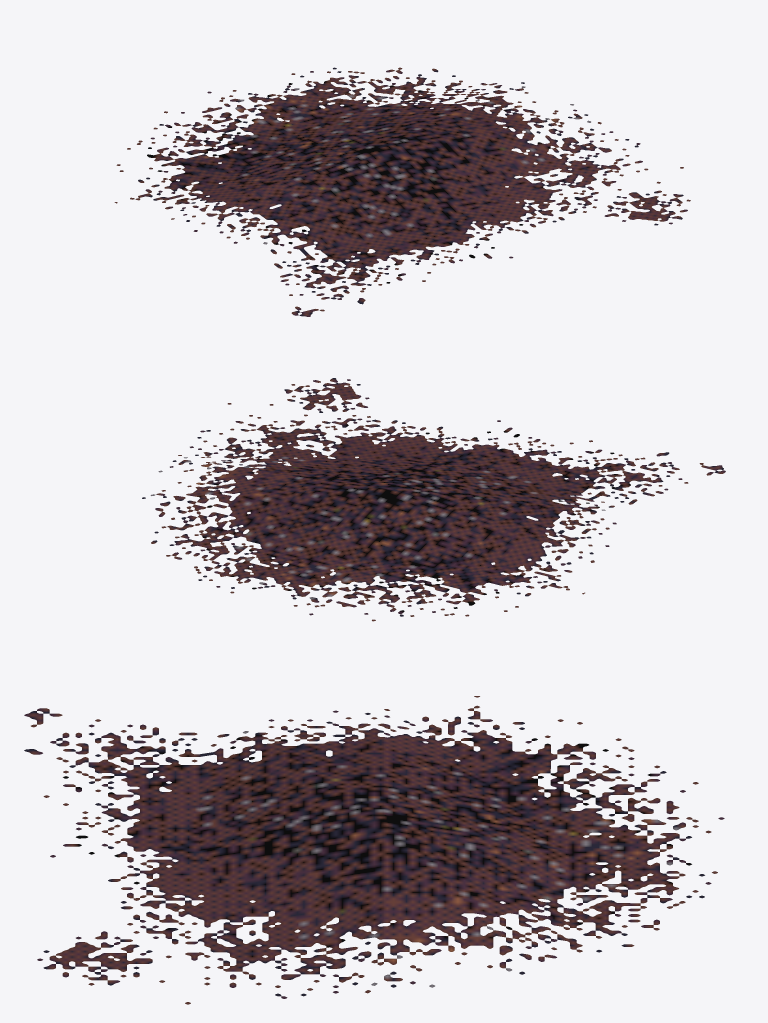
Rendered from Monton_Suciedad_01.fbx.
3 renders of one model, top to bottom at view 1: azimuth 30°, elevation 25°; view 2: azimuth 150°, elevation 25°; view 3: azimuth 270°, elevation 25°, orthographic. The views are drawn at different scales.
Parts seen in each view (by area): view 1: Plane.001; view 2: Plane.001; view 3: Plane.001.
Boxes of the visible parts, x1=… form: Plane.001: x1=114, y1=67, x2=690, y2=316; Plane.001: x1=142, y1=378, x2=725, y2=621; Plane.001: x1=24, y1=696, x2=724, y2=1004.
Size of the model in its own units: 200 by 8.81 by 200.
